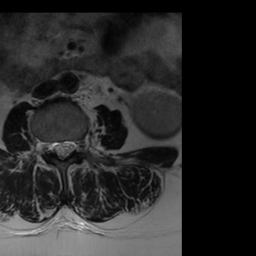CCS_normal: (59, 131, 66, 169)
LFS_normal: (75, 130, 84, 159)
LLS_normal: (66, 130, 75, 162)
RFS_normal: (42, 130, 51, 161)
RLS_normal: (51, 132, 59, 162)
